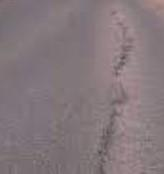crack: (93, 1, 135, 174)
